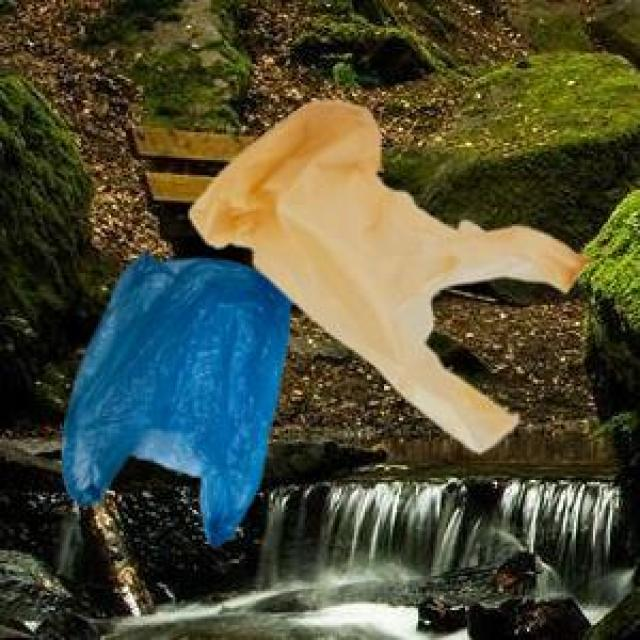plastic: (42, 91, 582, 559)
